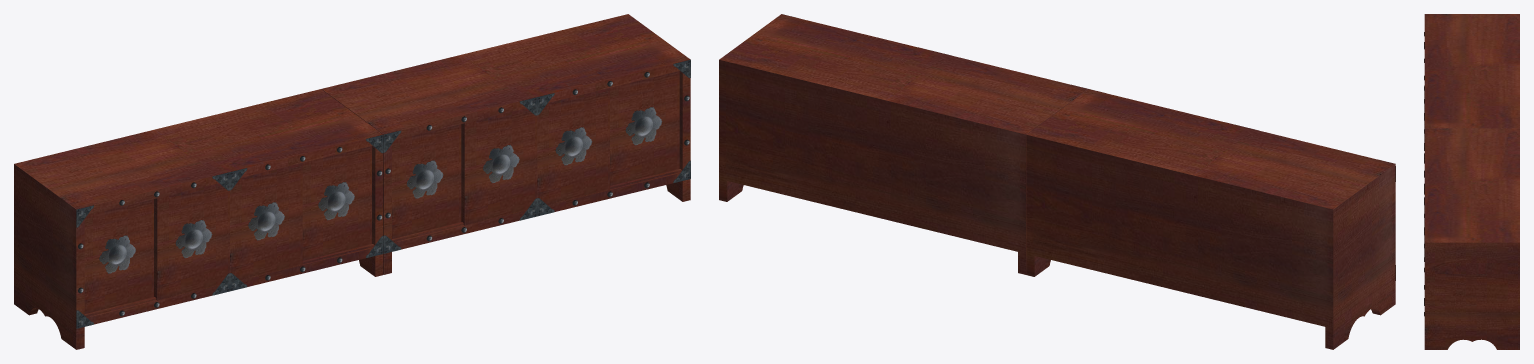
The model's file is 장식장.FBX.
The picture shows the model from 3 angles, left to right: view 1: azimuth 30°, elevation 25°; view 2: azimuth 150°, elevation 25°; view 3: azimuth 270°, elevation 25°; orthographic projection. The views are drawn at different scales.
Visible parts, largest first — view 1: 장식장; view 2: 장식장; view 3: 장식장.
Boxes of the visible parts, <box> form: 장식장: <box>14,14,690,349</box>; 장식장: <box>719,14,1395,349</box>; 장식장: <box>1424,14,1519,349</box>.
Size of the model in its own units: 78.5 by 17.14 by 13.91.
